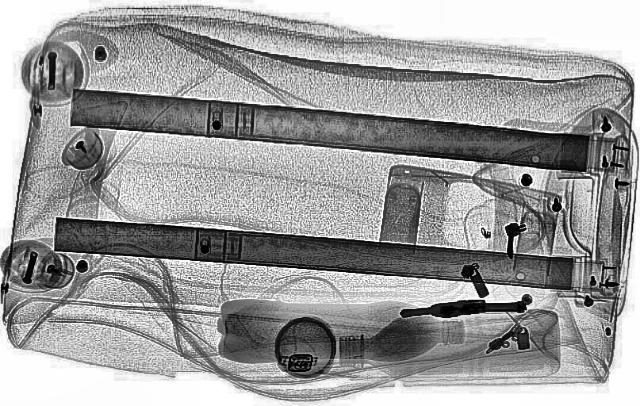Gun: (398, 296, 532, 318)
